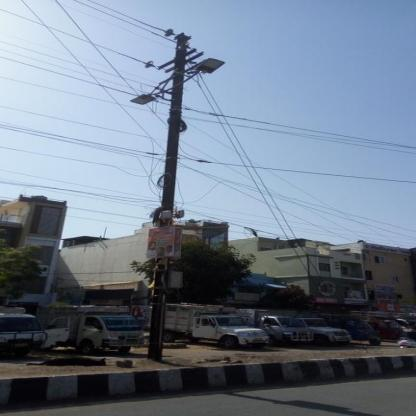Electrical Pole: (109, 22, 237, 361)
